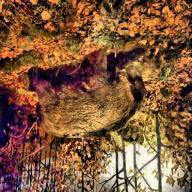boar: (22, 36, 152, 164)
